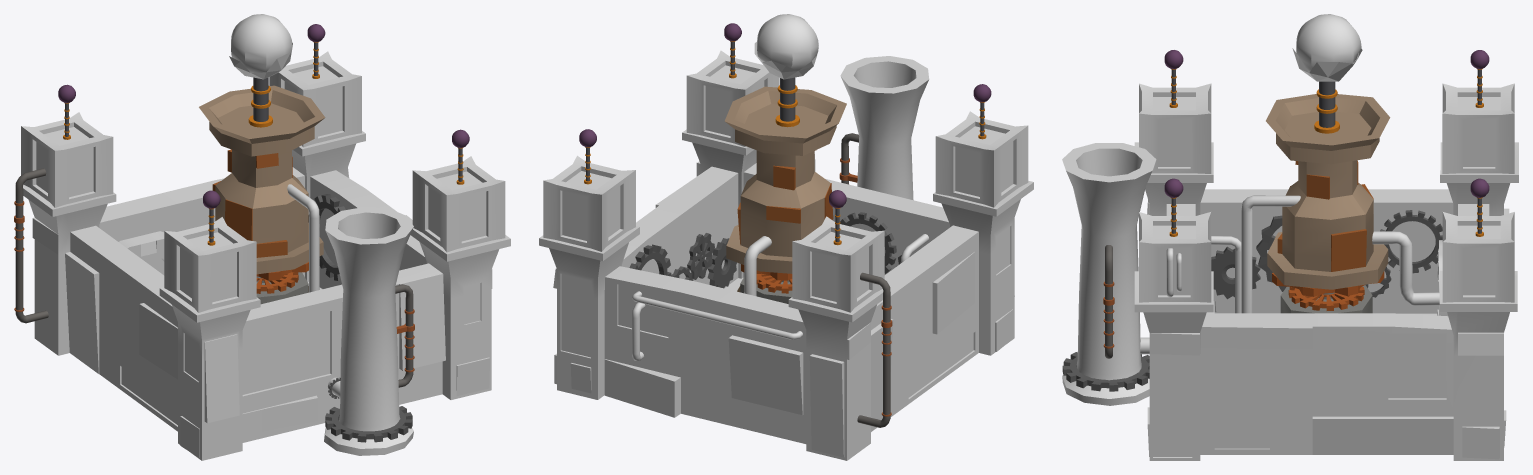
The picture shows the model from 3 angles, left to right: view 1: azimuth 30°, elevation 25°; view 2: azimuth 150°, elevation 25°; view 3: azimuth 270°, elevation 25°; orthographic projection. The views are drawn at different scales.
Visible parts, largest first — view 1: BoxBase.000, Cylinder.004, Cylinder.000; view 2: BoxBase.000, Cylinder, Cylinder.003, Cylinder.007, Cylinder.000; view 3: BoxBase.000, Cylinder.004, Cylinder.012, Cylinder.009, Cylinder.010.
Boxes of the visible parts, x1,y1,x2,y2 form: BoxBase.000: (14, 14, 510, 460); Cylinder.004: (325, 406, 412, 442); Cylinder.000: (308, 194, 345, 280); BoxBase.000: (539, 14, 1033, 460); Cylinder: (707, 238, 736, 288); Cylinder.003: (687, 233, 714, 279); Cylinder.007: (840, 212, 896, 273); Cylinder.000: (629, 244, 671, 276); BoxBase.000: (1062, 14, 1518, 460); Cylinder.004: (1062, 352, 1149, 391); Cylinder.012: (1380, 210, 1442, 273); Cylinder.009: (1211, 246, 1260, 299); Cylinder.010: (1256, 215, 1286, 291).
Bounding box in the file's own units: 13.01 × 12.9 × 14.51.
